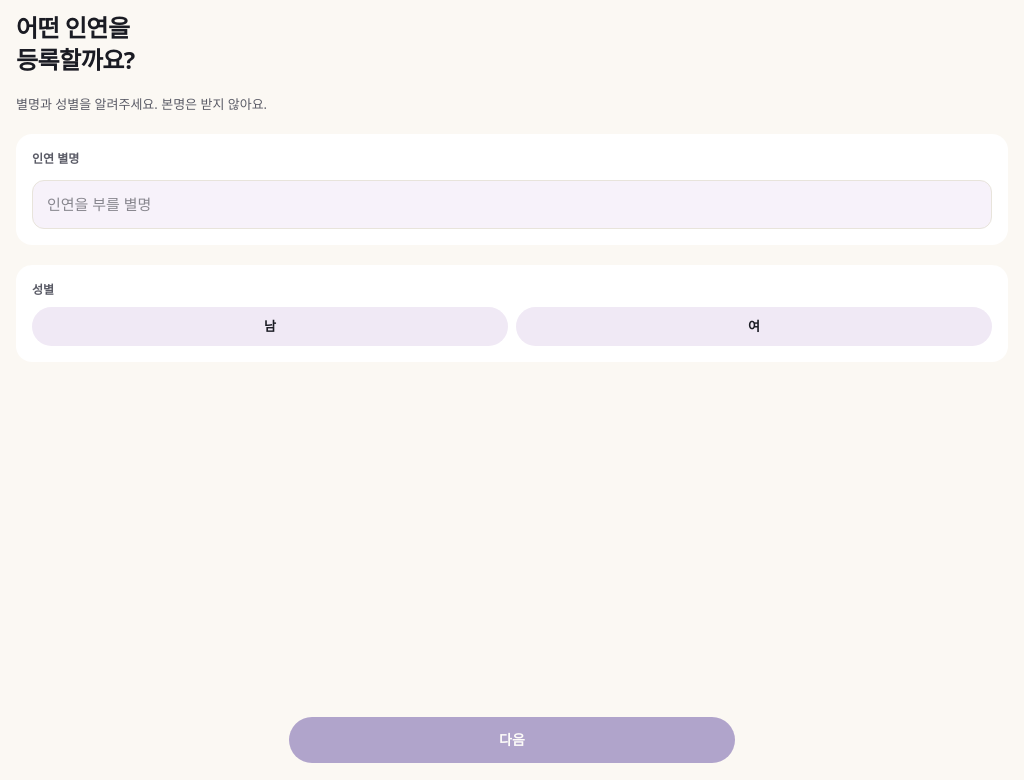
Scenario: RelationsNamePage (Step 1) › 다음 is disabled until nickname and gender are filled
The image size is (1024, 780).
Expected: the button "다음" is disabled, [288,716,736,764]
In the field with placeholder "인연을 부를 별명": [512, 204] box [32,180,992,229], type "하늘"
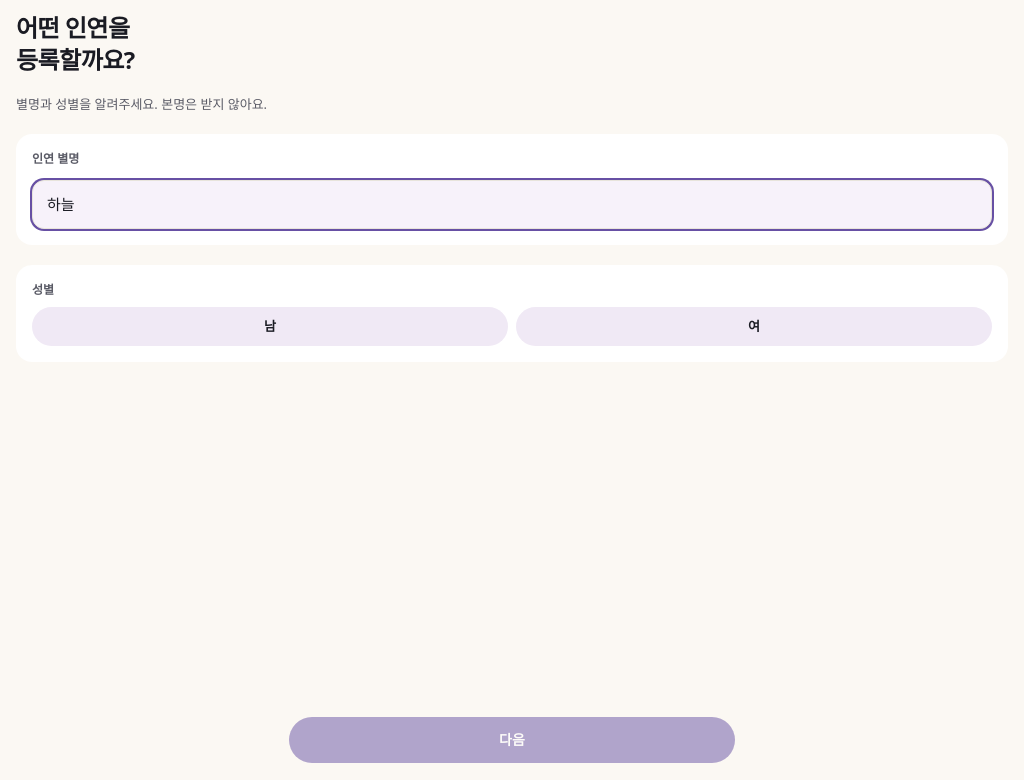
Expected: the button "다음" is disabled, [288,716,736,764]
Click the radio button labelled "여": [754, 326] box [516,307,992,346]
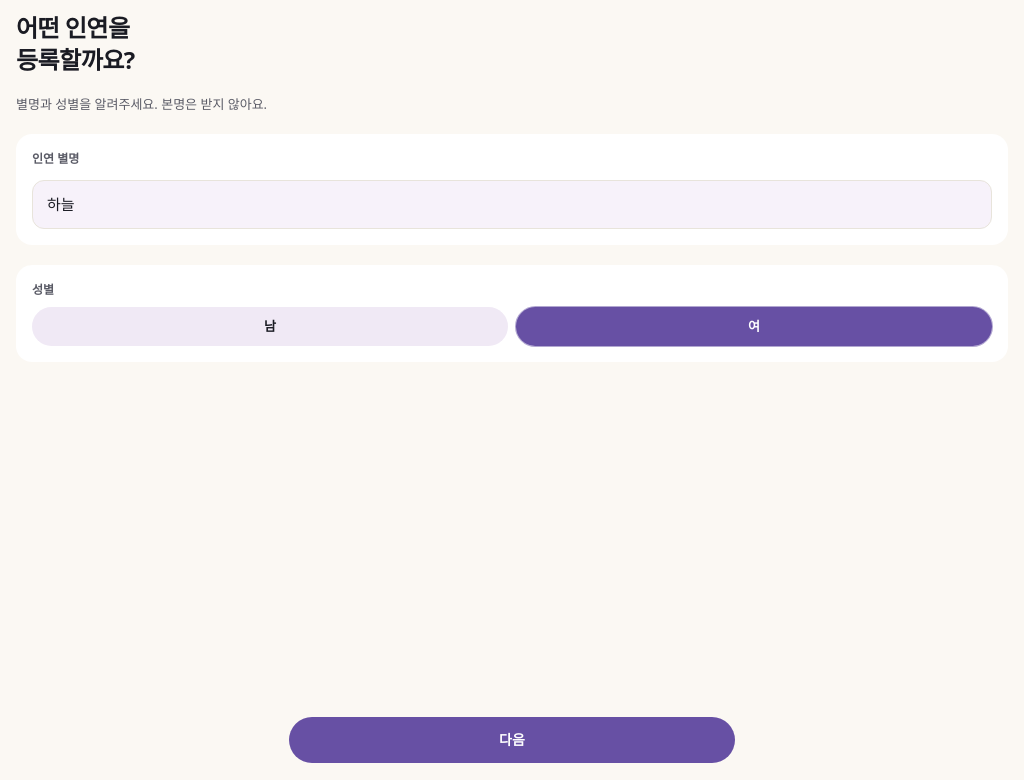
Expected: the button "다음" is enabled, [288,716,736,764]
